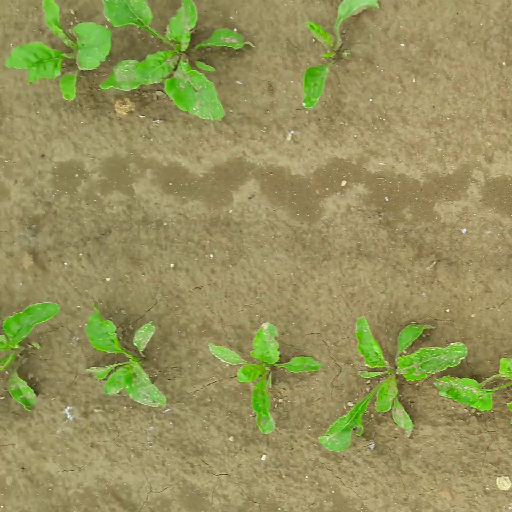sugarbeet: (314, 313, 467, 456), (94, 1, 259, 126), (204, 318, 325, 441), (1, 1, 110, 108), (81, 300, 174, 411), (302, 1, 384, 110), (1, 297, 64, 415), (429, 354, 512, 414)
